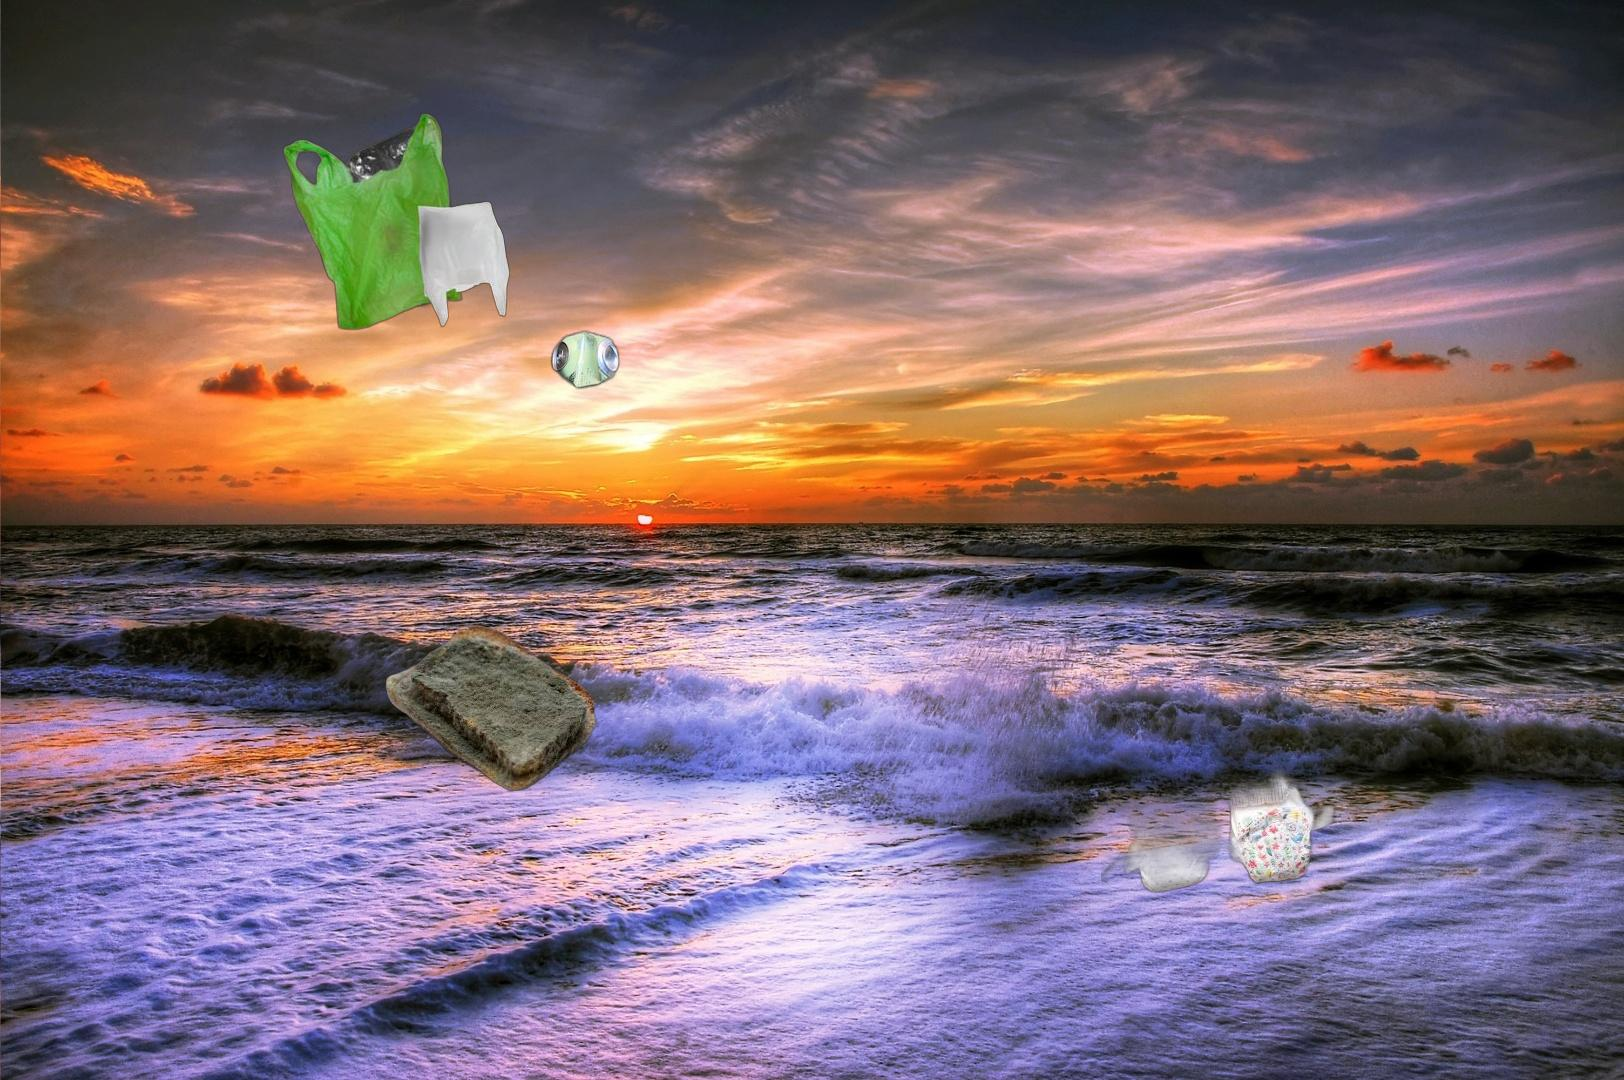biological: (383, 623, 599, 794)
metal-cans: (265, 325, 624, 683), (1390, 652, 1624, 1080)
plastic-bag: (281, 112, 513, 331)
trash: (1101, 716, 1376, 899)
